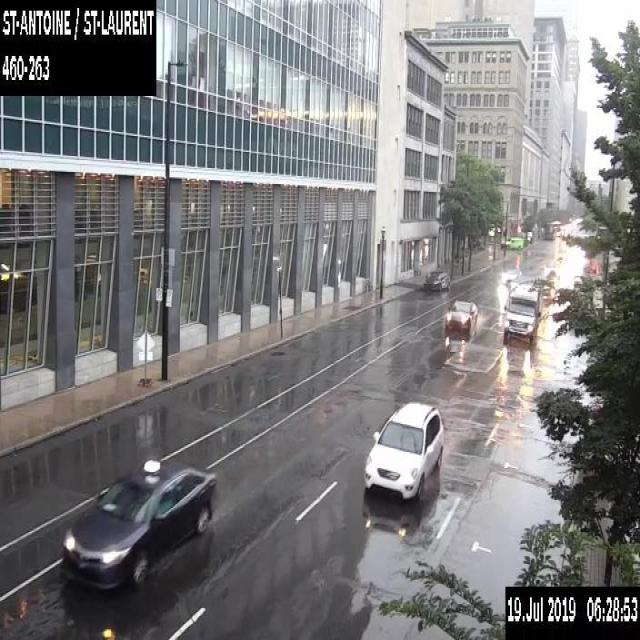construction: (134, 329, 156, 386), (582, 258, 602, 274)
vehicle: (61, 458, 218, 586), (362, 401, 443, 503), (502, 282, 540, 348), (444, 298, 476, 330), (424, 270, 451, 290), (500, 236, 523, 250)
